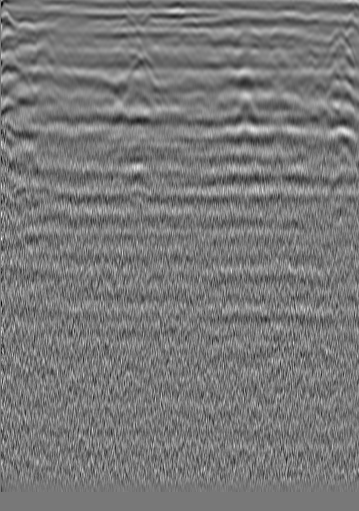가스: (115, 157, 160, 195)
상수: (301, 24, 321, 44)
오수: (33, 21, 53, 41)
우수: (178, 29, 198, 49)
